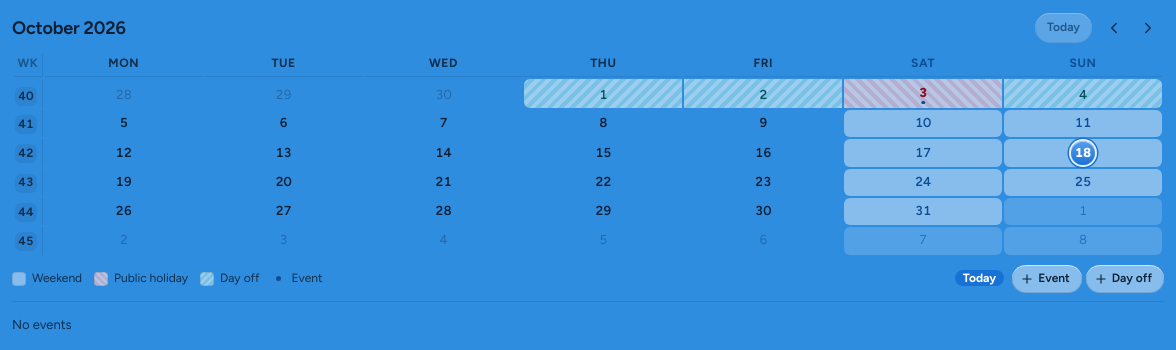
it: Kalender › listet erst Termine, dann freie Tage, dann den Feiertag; ohne Einträge „keine Termine“
Expected: the heading "Today Sunday, October 18" is shown, top-left (955, 270), bottom-right (1004, 286)
Expected: the text "No events" is shown, top-left (12, 317), bottom-right (72, 332)
What coordinates should you click on to do the following:
click the cell "3" in the row of "40"
I would click on:
 (923, 94)
Its box is top-left (844, 79), bottom-right (1002, 108).
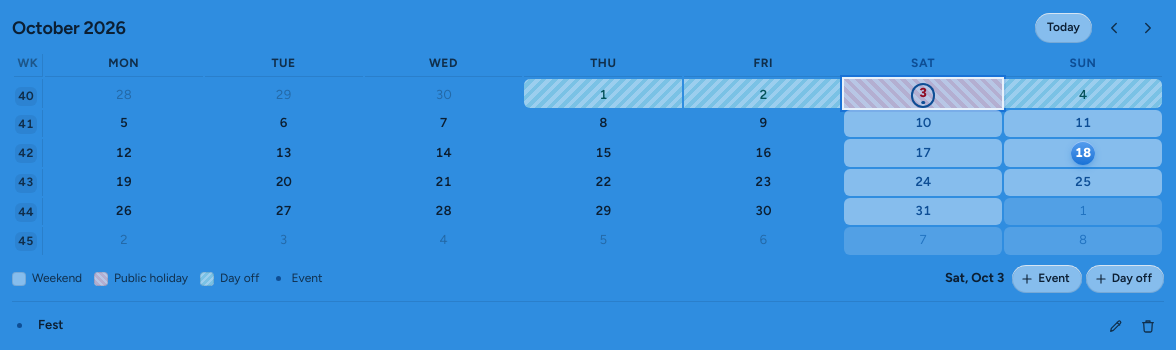
Result: the text "No events" is gone
